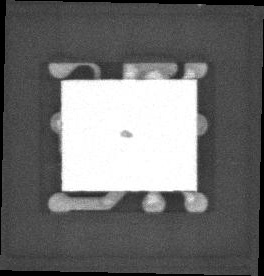DIE_INK: (114, 135, 127, 145)
